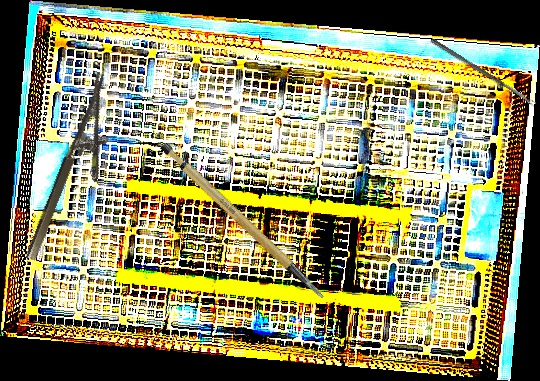Needle Holder: (23, 71, 135, 272)
Scalpel Handle: (157, 124, 325, 322)
Surgical Spoon: (429, 38, 537, 107)
